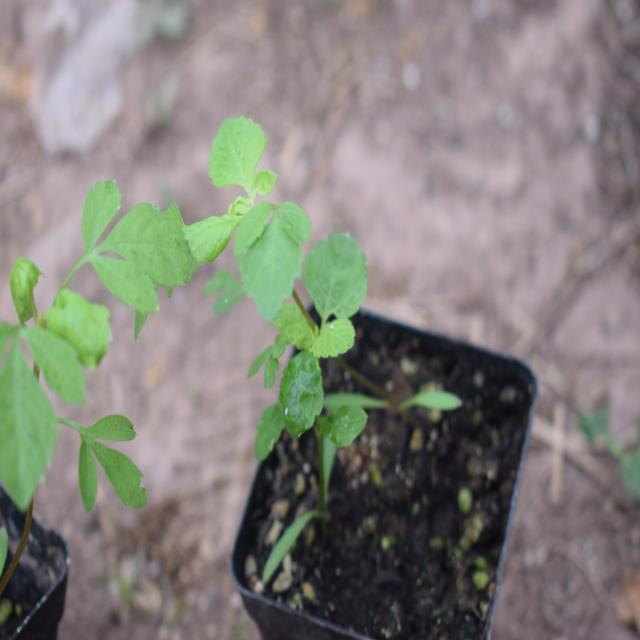Bidens pilosa: (0, 153, 227, 530), (202, 98, 378, 440)
